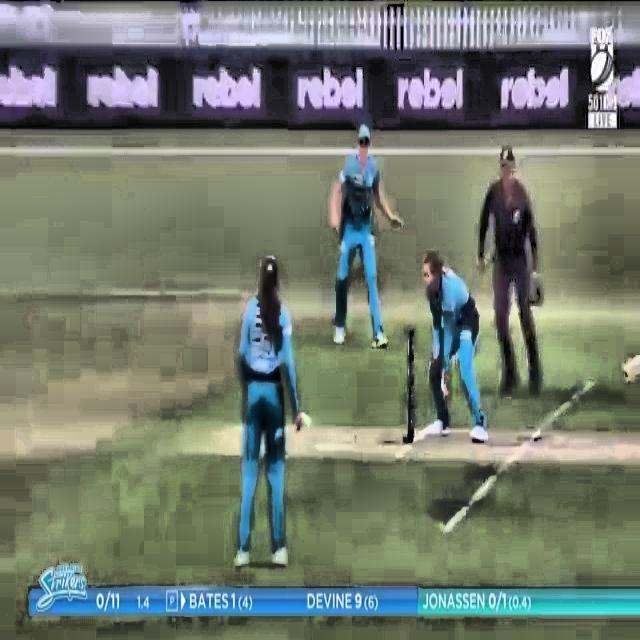Pitch_Line: (436, 374, 597, 534)
Undis_Wicket: (398, 322, 420, 447)
